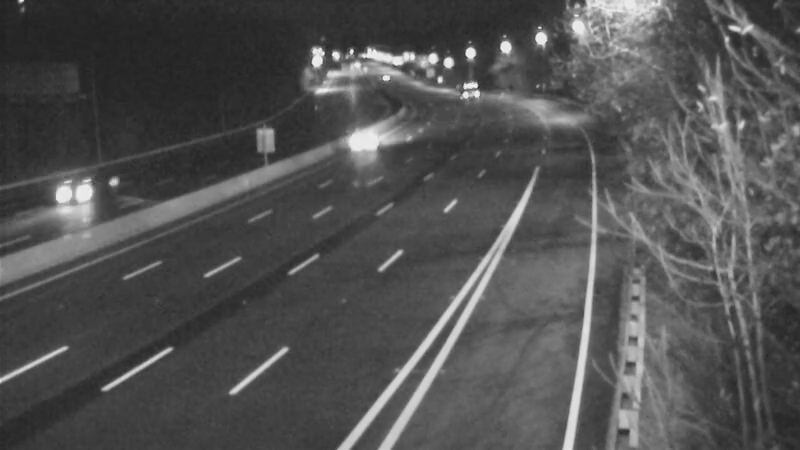vehicle: (50, 152, 130, 232), (357, 50, 407, 100), (435, 63, 485, 113), (343, 116, 393, 166)
